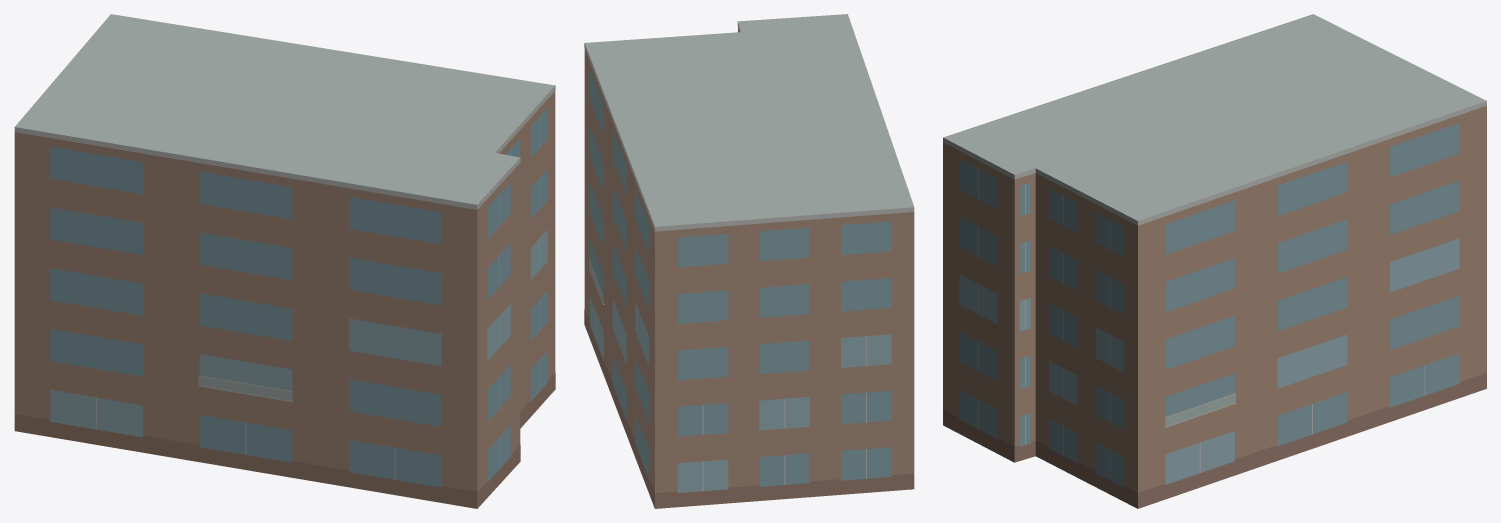
The model's file is survey-upis-32493435.glb.
3 views of the same model, side by side, from view 1: azimuth 30°, elevation 25°; view 2: azimuth 150°, elevation 25°; view 3: azimuth 270°, elevation 25° (orthographic). The views are drawn at different scales.
Visible parts, largest first — view 1: survey-upis-32493435.tmp; view 2: survey-upis-32493435.tmp; view 3: survey-upis-32493435.tmp.
Boxes of the visible parts, x1,y1,x2,y2 form: survey-upis-32493435.tmp: (14,14,555,508); survey-upis-32493435.tmp: (584,14,914,508); survey-upis-32493435.tmp: (943,14,1486,508).
Size of the model in its own units: 22.84 by 14.8 by 25.35.
